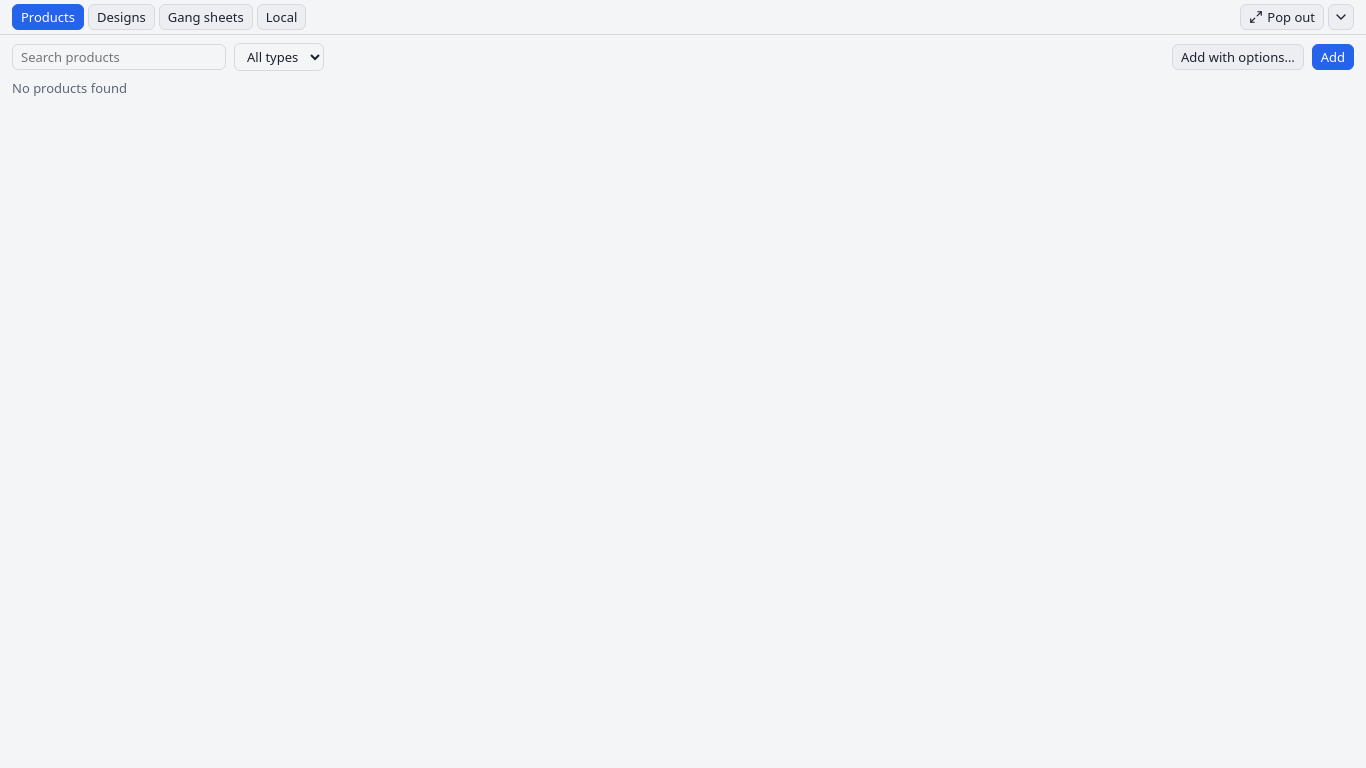
LibraryBrowser › products: Status Live maps to active; Clear filters resets and persists
Click the button "Pop out".
click(1282, 17)  # box [1240, 4, 1324, 30]
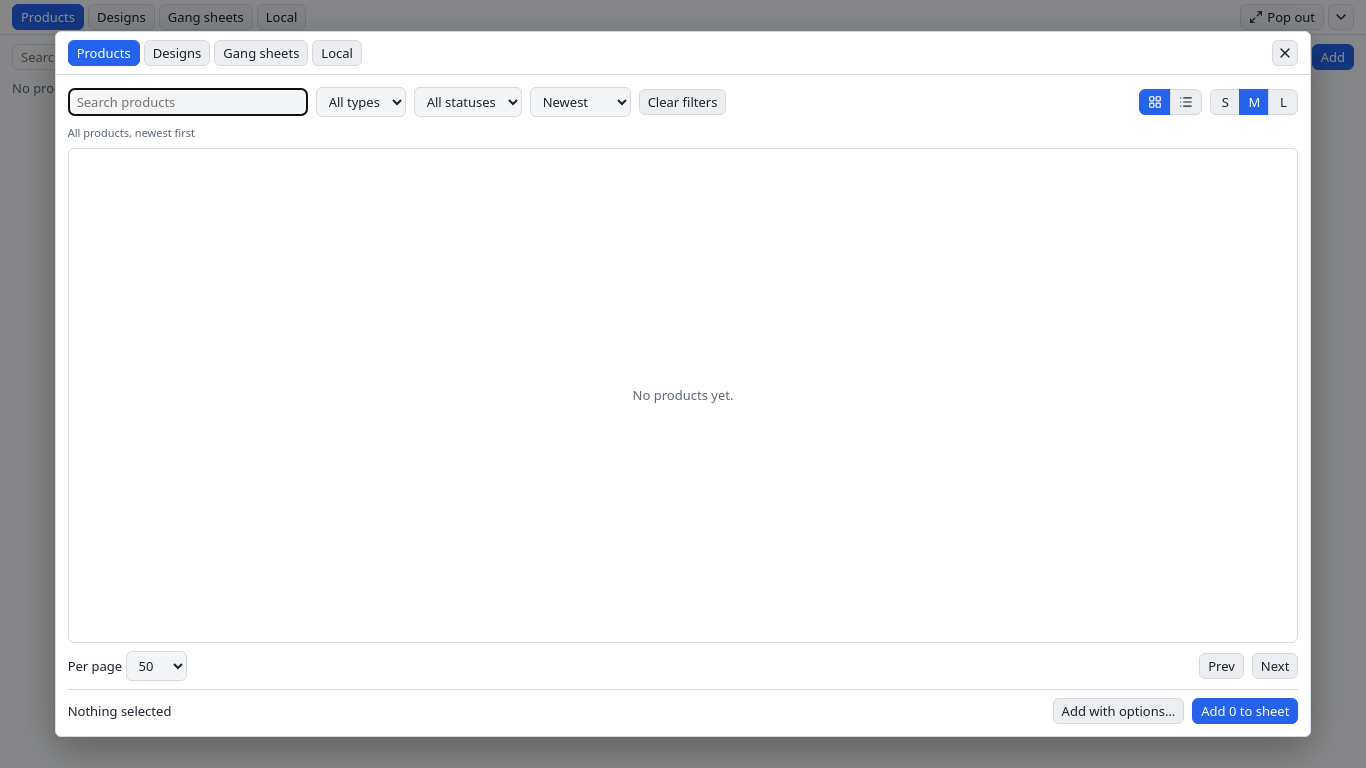
Select "Live" in the dropdown named "Status" at (468, 102), box [414, 87, 522, 117]
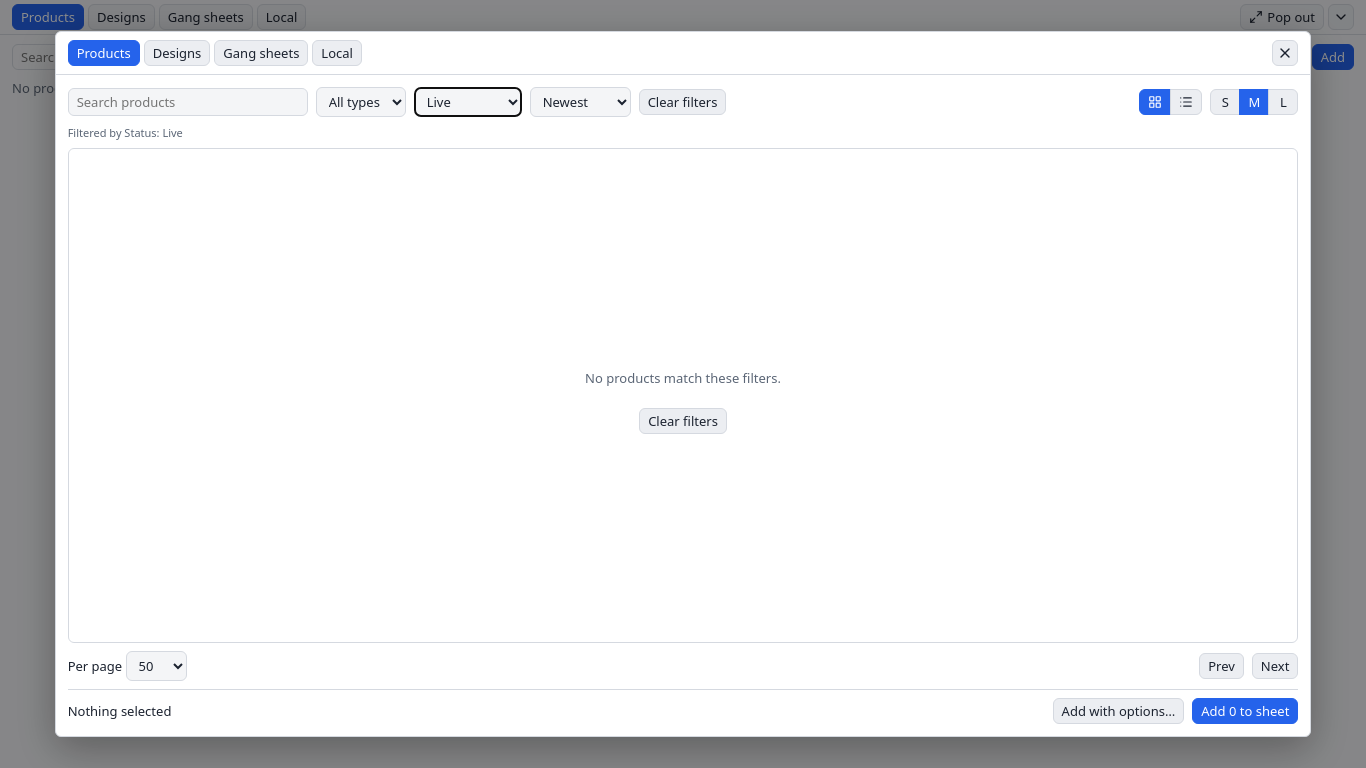
Select "T-Shirts" in the dropdown named "Type" at (361, 102), box [316, 87, 406, 117]
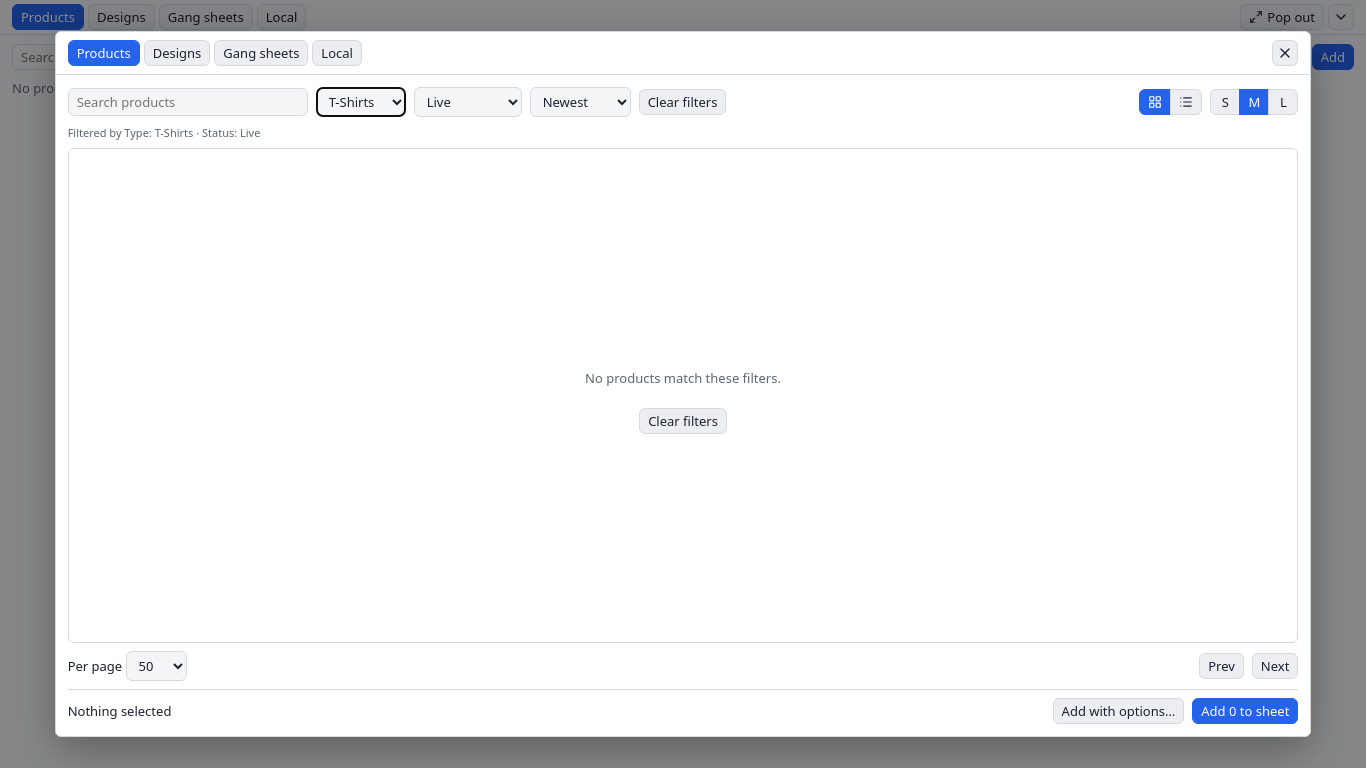
Check: the text "No products match these filters." is shown, box [585, 370, 781, 388]
Check: the text "Filtered by Type: T-Shirts · Status: Live" is shown, box [68, 125, 260, 140]
Click the 1st button "Clear filters".
click(682, 102)  # box [639, 89, 726, 115]
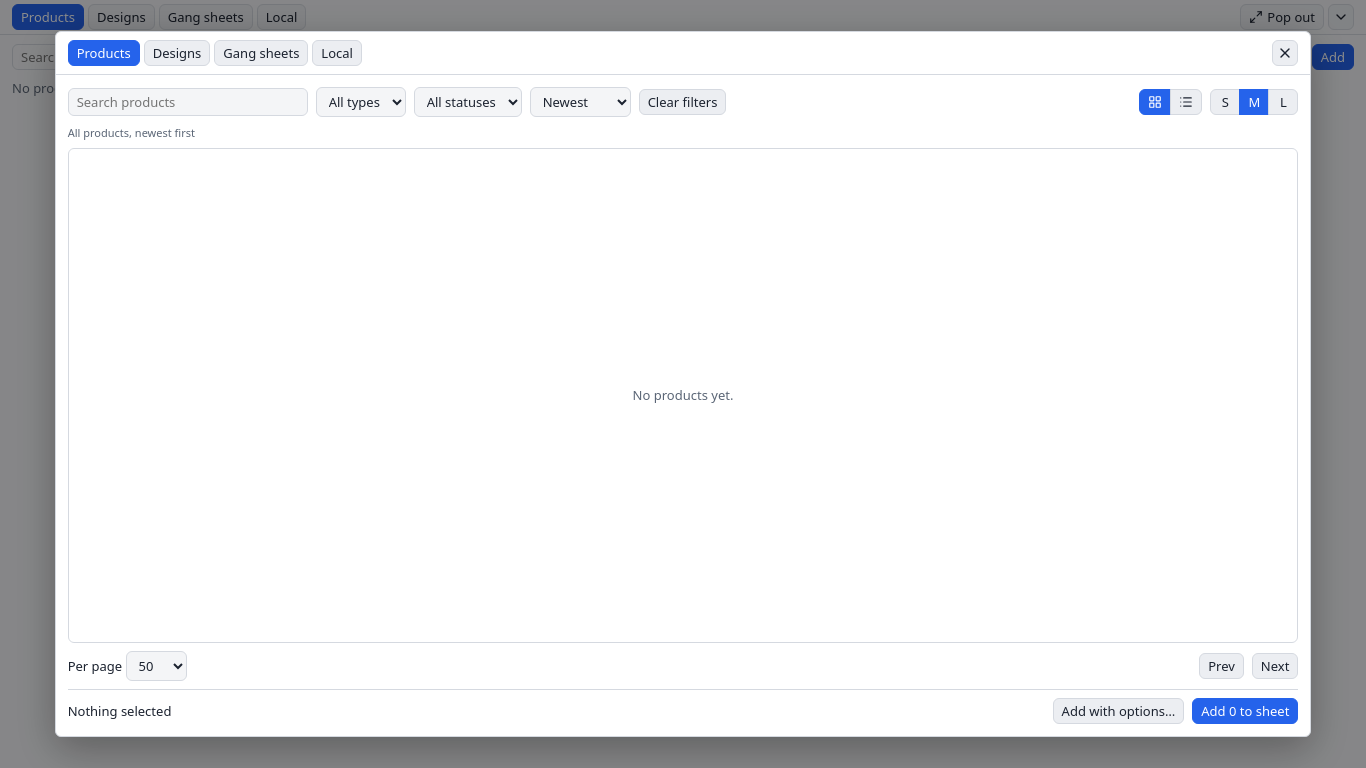
Check: the text "No products yet." is shown, box [633, 386, 733, 404]
